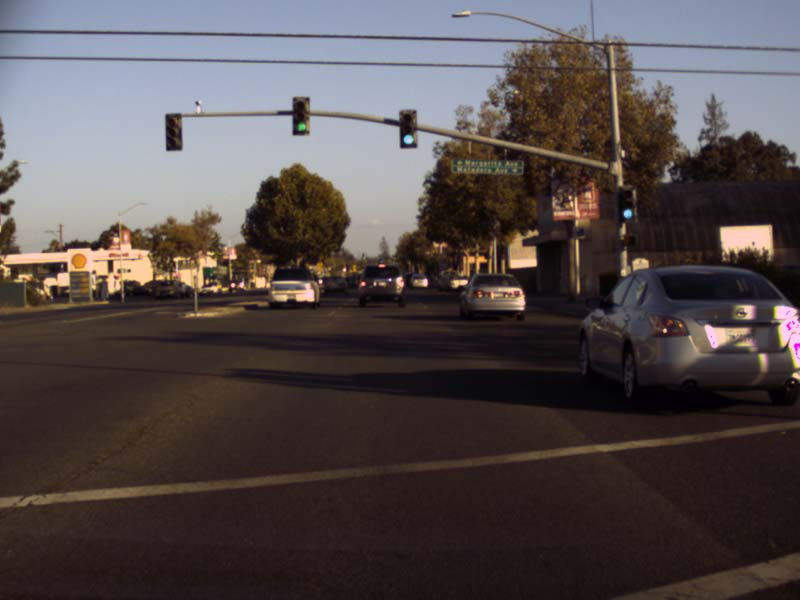Green: (399, 109, 417, 148), (617, 186, 637, 221), (292, 96, 309, 134)
